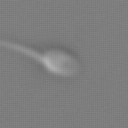abnormal: (1, 33, 47, 65)
